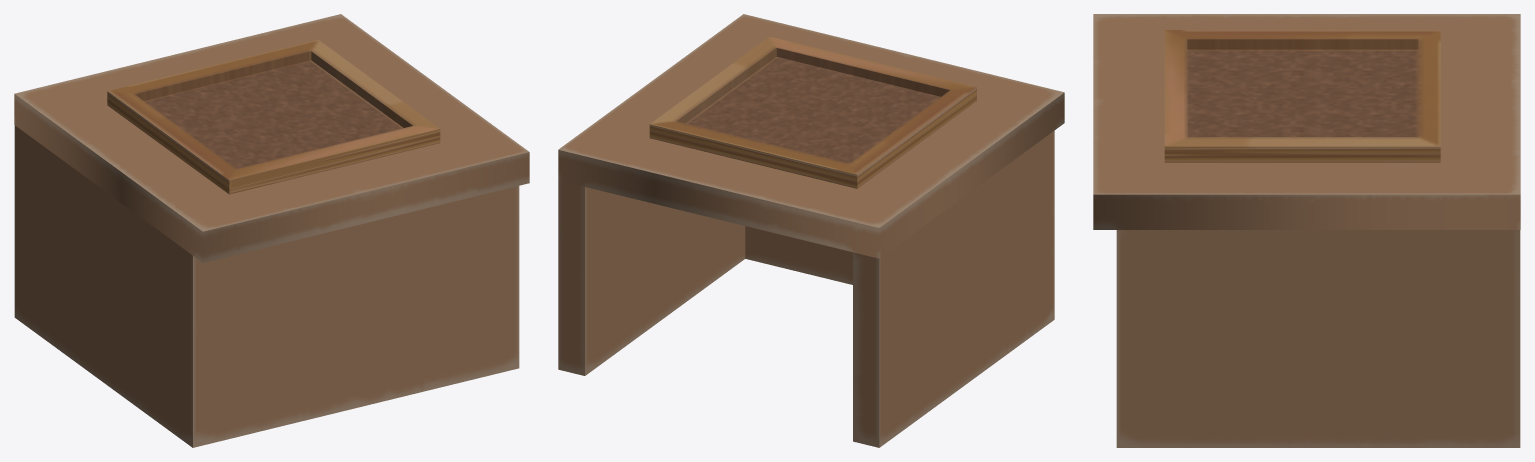
Rendered from table2.fbx.
3 renders of one model, left to right at view 1: azimuth 30°, elevation 25°; view 2: azimuth 150°, elevation 25°; view 3: azimuth 270°, elevation 25°, orthographic. The views are drawn at different scales.
Parts seen in each view (by area): view 1: table2; view 2: table2; view 3: table2.
Part boxes in pixels (<box>): table2: <box>14,14,529,447</box>; table2: <box>558,14,1064,447</box>; table2: <box>1093,14,1520,447</box>.
Bounding box in the file's own units: 200 × 139 × 200.
Materials: 1 (1 with a texture image).
